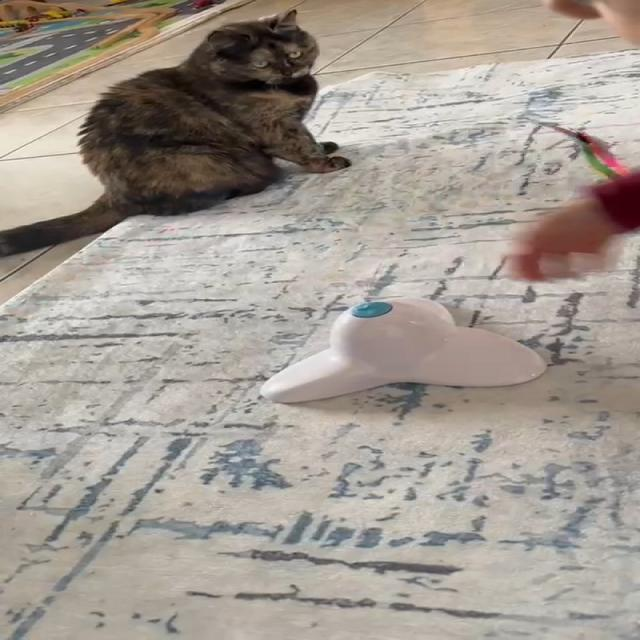authorized: (0, 8, 351, 258)
